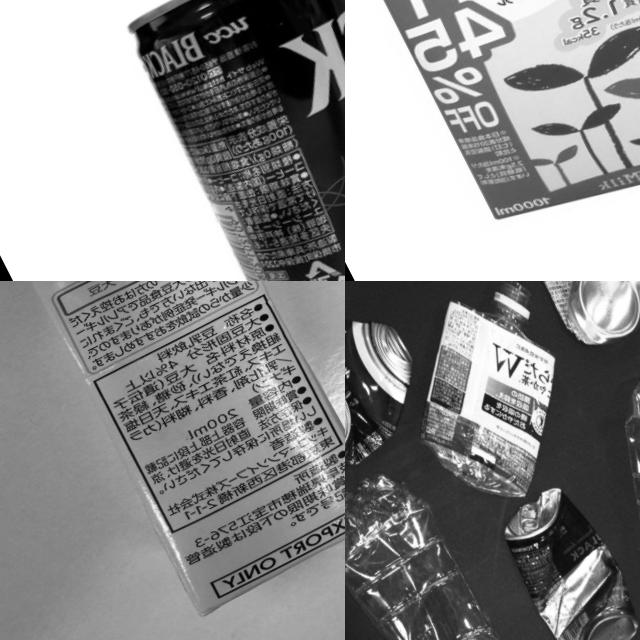Aluminium Foil: (0, 281, 345, 624), (345, 0, 640, 265)
Can: (112, 0, 345, 281), (486, 474, 640, 640), (345, 283, 459, 495), (510, 281, 640, 345)
Transparent Plastic Bottle: (376, 281, 615, 519), (345, 462, 544, 640), (569, 341, 640, 640)
